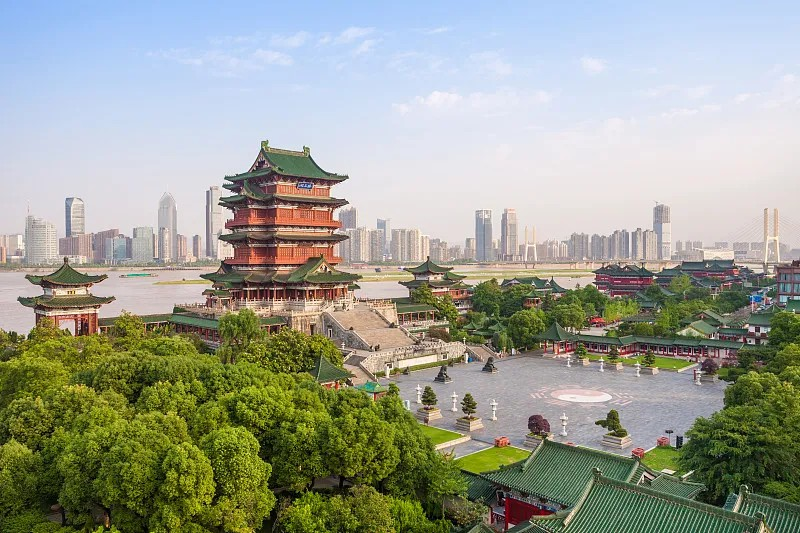Teng: (199, 139, 362, 307)
